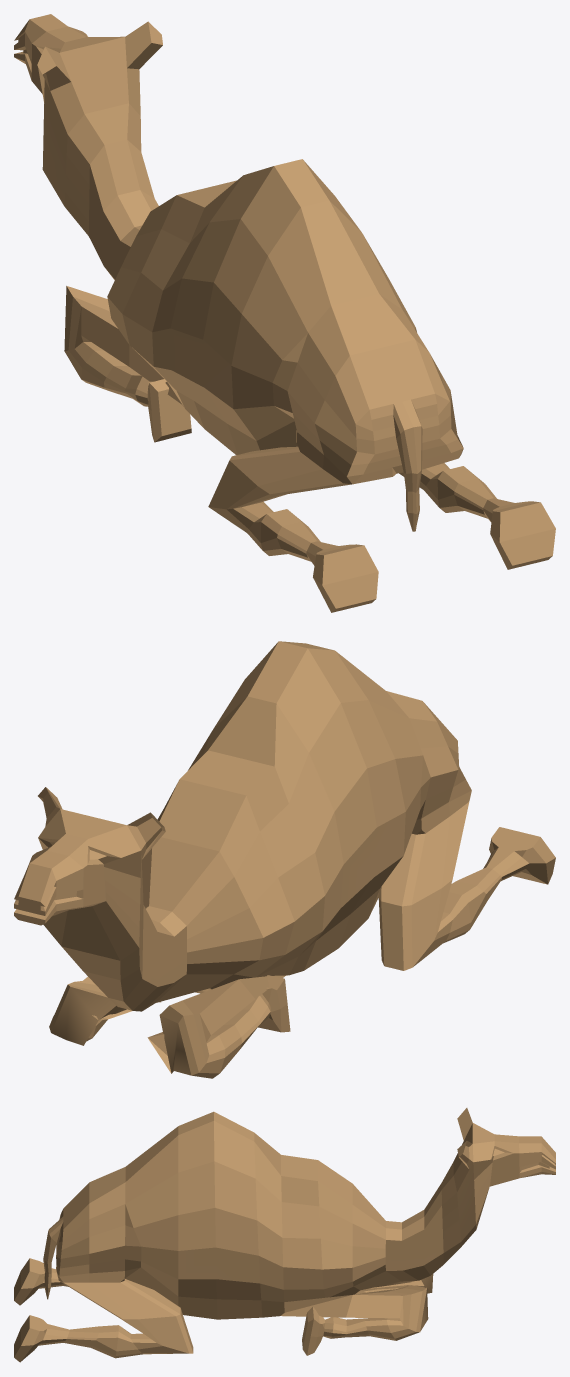
The model's file is Camel.glb.
The picture shows the model from 3 angles, top to bottom: view 1: azimuth 30°, elevation 25°; view 2: azimuth 150°, elevation 25°; view 3: azimuth 270°, elevation 25°; orthographic projection. The views are drawn at different scales.
Visible parts, largest first — view 1: Camel; view 2: Camel; view 3: Camel.
Part boxes in pixels (x1,y1,x2,y2): Camel: [14, 14, 555, 612]; Camel: [14, 641, 555, 1078]; Camel: [14, 1108, 555, 1362].
Bounding box in the file's own units: 4.6 × 5.98 × 13.98.
